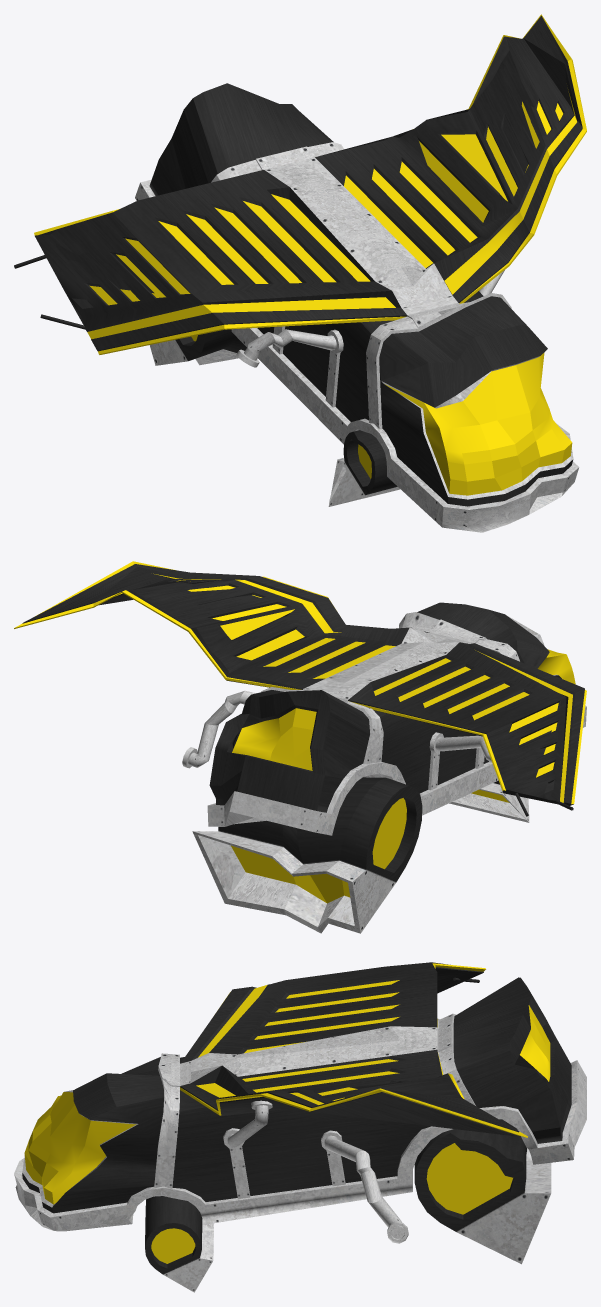
Rendered from TheBus_20.fbx.
The picture shows the model from 3 angles, top to bottom: view 1: azimuth 30°, elevation 25°; view 2: azimuth 150°, elevation 25°; view 3: azimuth 270°, elevation 25°; orthographic projection. The views are drawn at different scales.
Visible parts, largest first — view 1: Body, FrontThrust, Back_Thrust, pipe1; view 2: Body, Back_Thrust, FrontThrust, pipe4, pipe2; view 3: Body, Back_Thrust, FrontThrust, pipe4, pipe3.
Boxes of the visible parts, <box> form: Body: <box>34,14,586,532</box>; FrontThrust: <box>328,430,400,506</box>; Back_Thrust: <box>149,329,246,365</box>; pipe1: <box>236,329,343,367</box>; Body: <box>14,561,586,835</box>; Back_Thrust: <box>192,777,422,933</box>; FrontThrust: <box>449,780,529,822</box>; pipe4: <box>182,690,255,768</box>; pipe2: <box>429,732,491,762</box>; Body: <box>14,962,586,1231</box>; Back_Thrust: <box>414,1119,551,1264</box>; FrontThrust: <box>145,1196,213,1292</box>; pipe4: <box>321,1130,408,1243</box>; pipe3: <box>223,1100,272,1149</box>.
Size of the model in its own units: 5.82 by 3.07 by 5.68.
